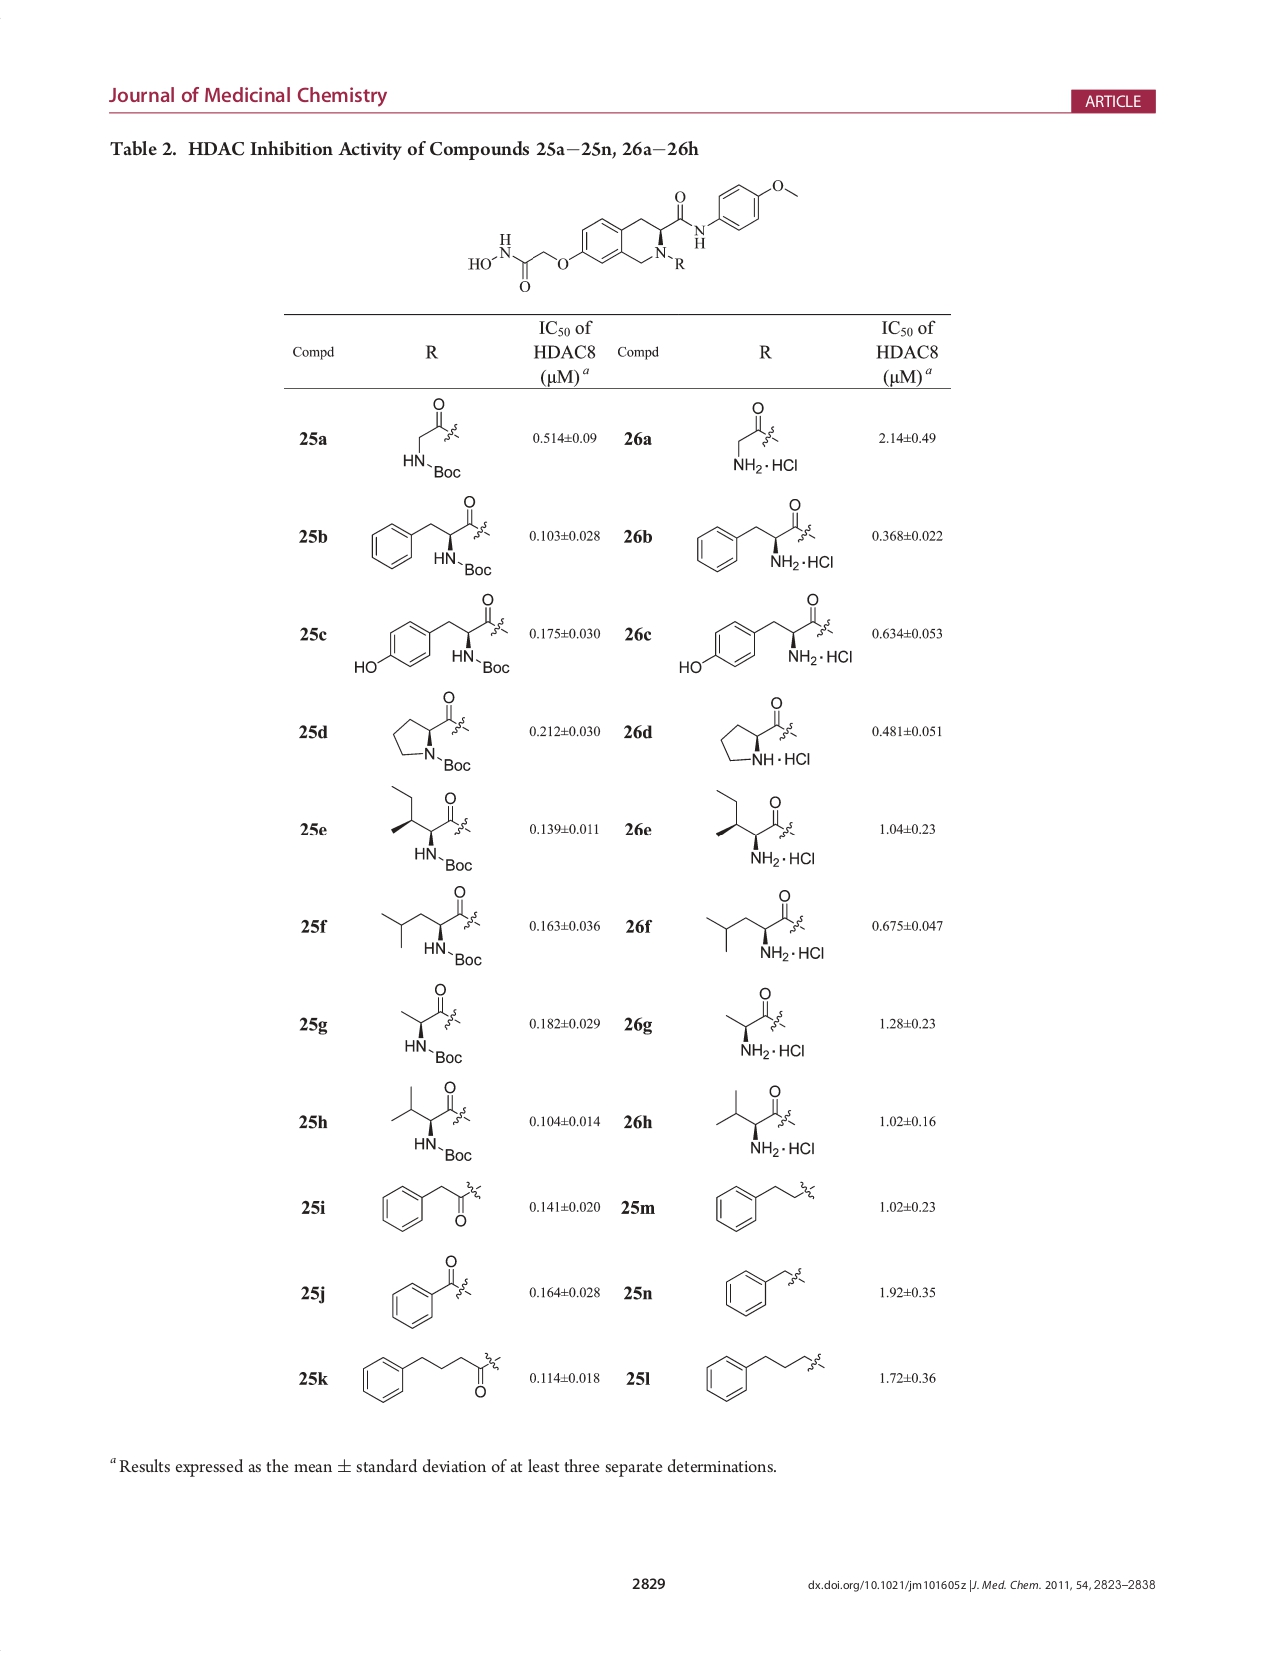exist_molecular: (465, 177, 799, 297), (676, 590, 856, 676), (351, 590, 513, 680), (693, 496, 836, 577), (367, 492, 495, 578), (703, 886, 827, 964), (379, 883, 489, 969), (709, 785, 817, 870), (715, 1081, 821, 1160), (386, 783, 476, 874), (359, 1347, 501, 1404), (715, 692, 815, 770), (388, 1079, 473, 1164), (392, 688, 473, 775), (701, 1350, 827, 1404), (719, 985, 807, 1064), (387, 1251, 473, 1330), (396, 979, 469, 1064), (376, 1177, 484, 1233), (711, 1180, 819, 1234), (731, 398, 801, 477), (402, 396, 465, 481), (722, 1261, 805, 1319)
